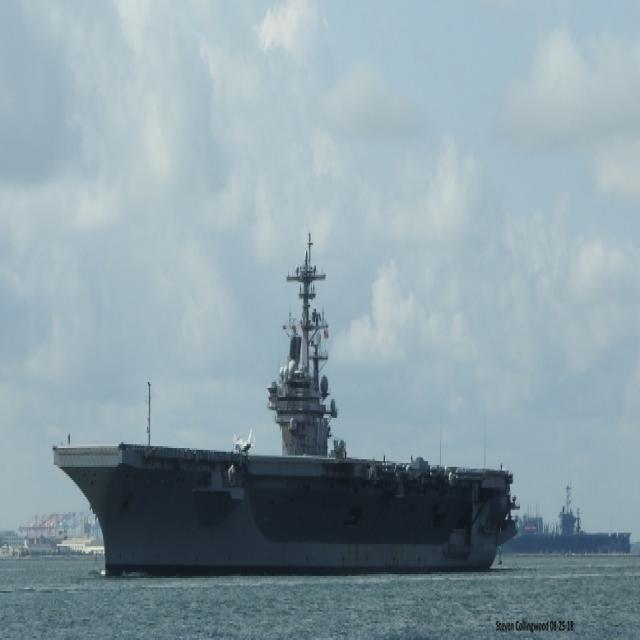Portanaves: (49, 214, 521, 585)
